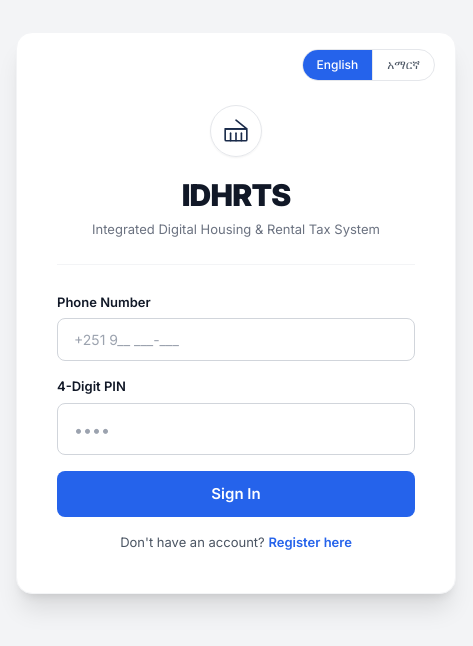
LoginPage › shows error on login failure and shows loading state during submit
The width and height of the screenshot is (473, 646).
Type "0911111111" into the field with placeholder "+251 9__ ___-___" at (236, 340), box [57, 318, 415, 361]
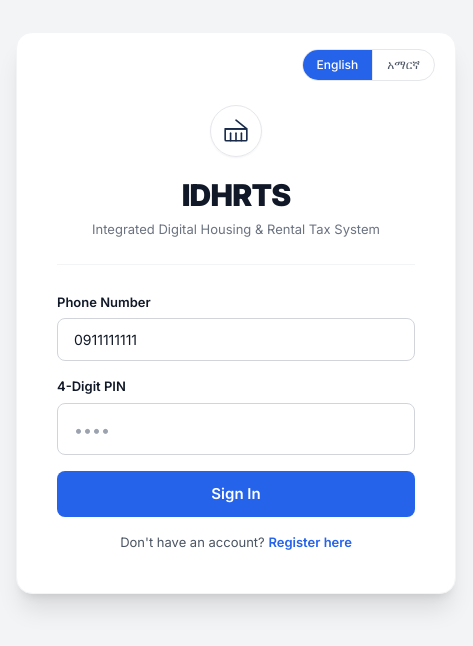
Type "0000" into the password field with placeholder "••••" at (236, 429), box [57, 403, 415, 455]
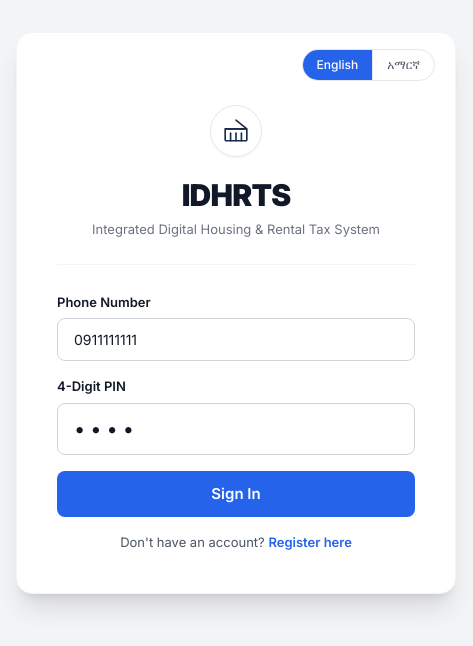
Click the button "Sign In" at (236, 494), box [57, 471, 415, 517]
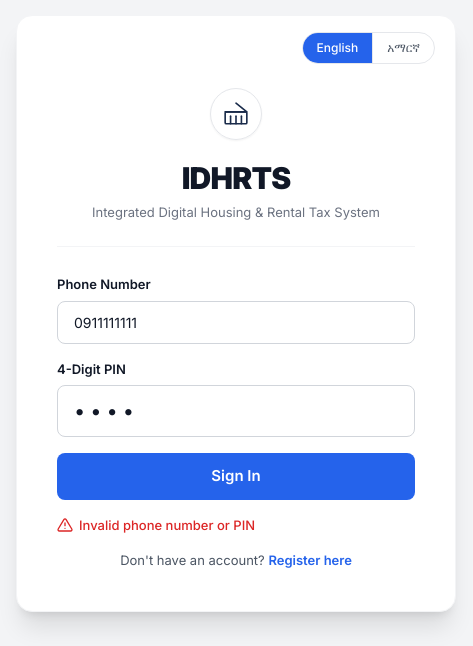
Expected: the button "Signing in..." is shown, [57, 453, 415, 500]
Now the text "Invalid phone number or PIN" is shown, box [79, 516, 255, 535]
